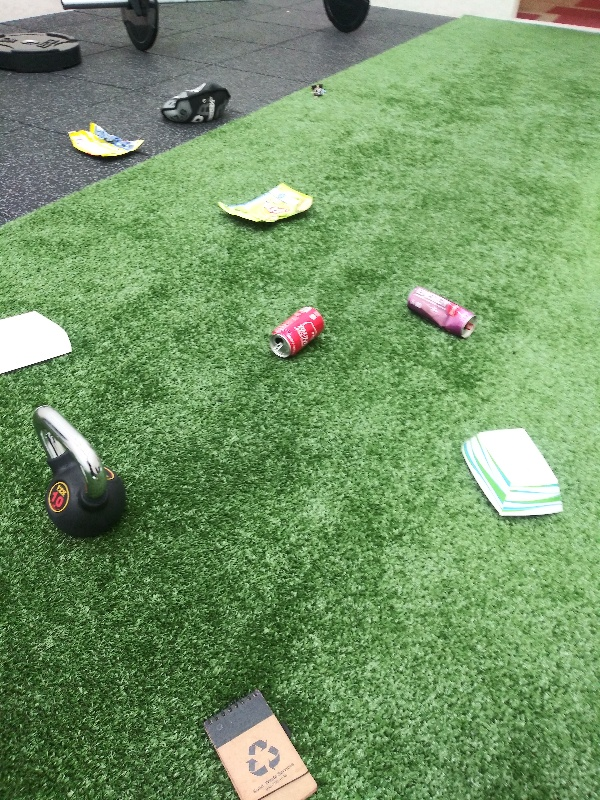bag: (209, 181, 319, 230), (62, 117, 152, 163)
can: (403, 284, 479, 339), (267, 301, 330, 362)
plate: (455, 425, 569, 524), (1, 306, 79, 379)
